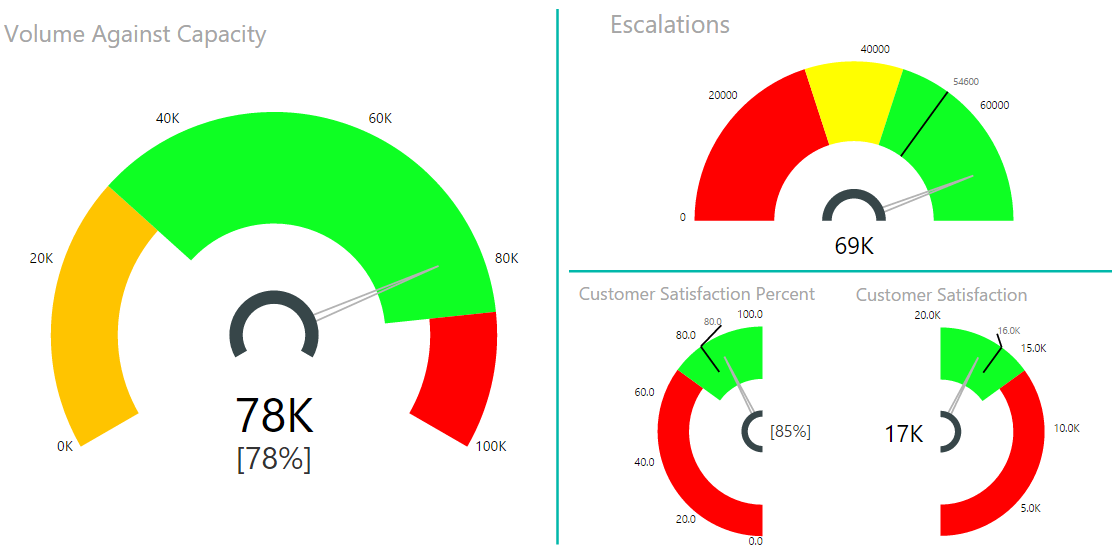

This screenshot's page, from the dashboard's own definition file:
{"tool":"powerbi","page":{"name":"Call Center Dashboard","canvas":[1280,720],"ordinal":0},"visuals":[{"type":"textbox","box":[0,0,900.3,104.5],"z":2},{"type":"Tachometer1474636471549","fields":{"Y":["Sum(Volume.Call Volume)"],"EndValue":["Sum(Volume.Capacity)"],"Range3StartValue":["Sum(Volume.High Load)"],"Range2StartValue":["Sum(Volume.Low Load)"]},"box":[15.7,131,585.6,533],"z":2},{"type":"Tachometer1474636471549","fields":{"Y":["Sum(Escalations.T1 Resolved)"],"EndValue":["Sum(Escalations.Call Volume)"],"Range2StartValue":["Sum(Escalations.T1 Bad Threshold)"],"Range3StartValue":["Sum(Escalations.T1 Good Threshold)"],"TargetValue":["Sum(Escalations.T1 Target)"]},"box":[762.5,121.7,446.7,313.5],"z":3},{"type":"Tachometer1474636471549","fields":{"Y":["Sum(Satisfaction.Percent)"],"EndValue":["Satisfaction.100Percent"],"Range3StartValue":["Sum(Satisfaction.MinPercent)"],"TargetValue":["Sum(Satisfaction.TargetPercent)"]},"box":[707.4,451.3,280.2,266.4],"z":4},{"type":"Tachometer1474636471549","fields":{"Y":["Sum(Satisfaction.Satisfied)"],"TargetValue":["Sum(Satisfaction.Target)"],"Range3StartValue":["Sum(Satisfaction.Min)"],"StartValue":["Sum(Satisfaction.Customer Responses)"]},"box":[989.9,451.3,280.2,266.4],"z":4},{"type":"basicShape","box":[609.8,152.7,45.9,565],"z":6},{"type":"basicShape","box":[640.8,404.2,637.3,23],"z":7},{"type":"textbox","box":[29.1,657.3,415.4,62.7],"z":8}]}

Visuals, with their boxes on the page's 1280x720 design canvas (x1, y1, x2, y2). These are canvas units, not pixel positions in the 1117x555 screenshot, which may show the page scaled, cropped or inside an application window:
textbox: box(0, 0, 900, 104)
Tachometer1474636471549 - Sum(Volume.Call Volume) x Sum(Volume.Capacity): box(16, 131, 601, 664)
Tachometer1474636471549 - Sum(Escalations.T1 Resolved) x Sum(Escalations.Call Volume): box(762, 122, 1209, 435)
Tachometer1474636471549 - Sum(Satisfaction.Percent) x Satisfaction.100Percent: box(707, 451, 988, 718)
Tachometer1474636471549 - Sum(Satisfaction.Satisfied) x Sum(Satisfaction.Target): box(990, 451, 1270, 718)
basicShape: box(610, 153, 656, 718)
basicShape: box(641, 404, 1278, 427)
textbox: box(29, 657, 444, 720)
